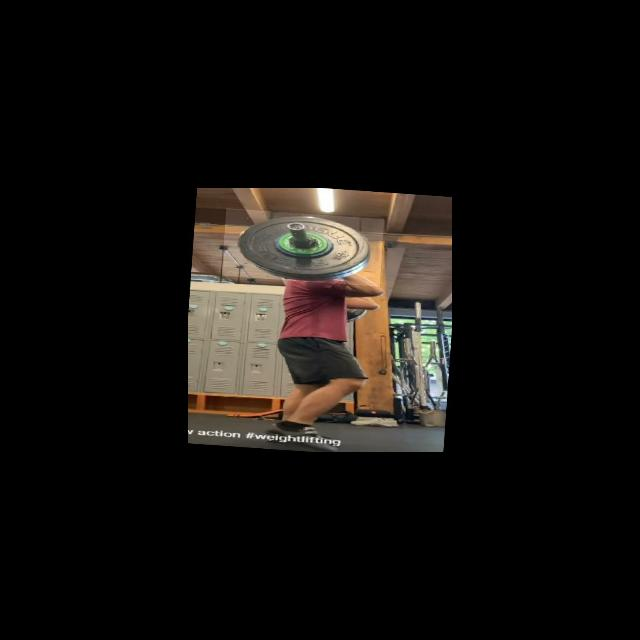barbell: (221, 208, 384, 286)
